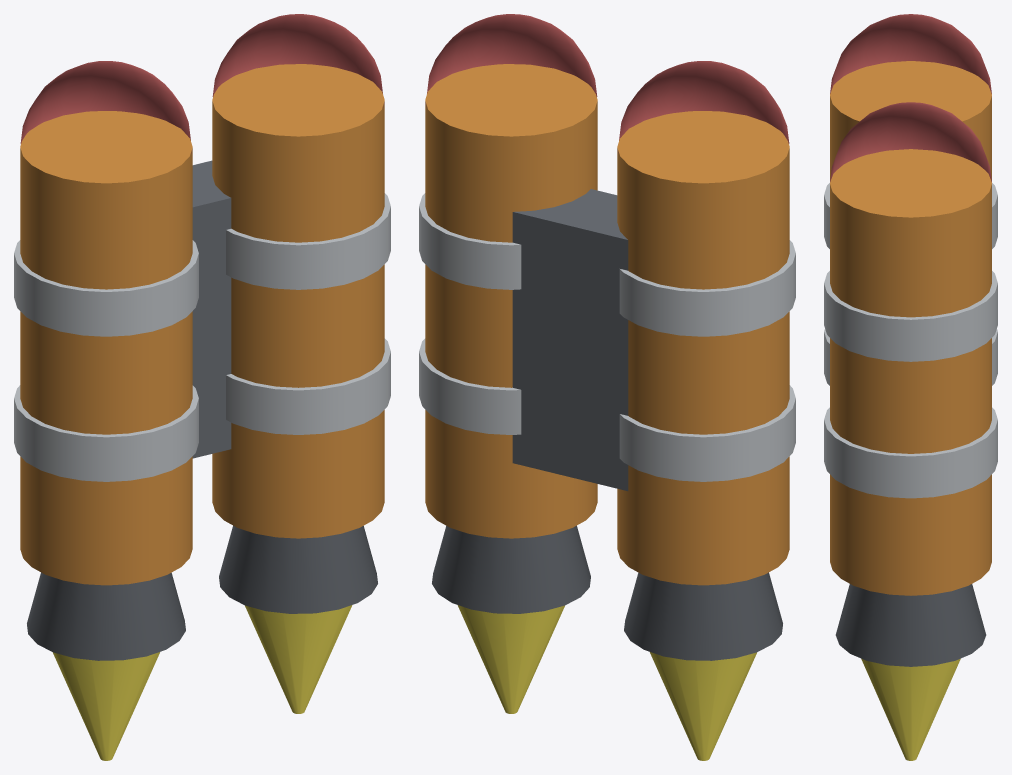
Rendered from 03_jetpack.glb.
3 views of the same model, side by side, from view 1: azimuth 30°, elevation 25°; view 2: azimuth 150°, elevation 25°; view 3: azimuth 270°, elevation 25° (orthographic). The views are drawn at different scales.
Parts seen in each view (by area): view 1: Jetpack; view 2: Jetpack; view 3: Jetpack.
Boxes of the visible parts, x1,y1,x2,y2 form: Jetpack: (14,14,390,760); Jetpack: (419,14,795,760); Jetpack: (824,14,997,760).
Size of the model in its own units: 0.66 by 1.23 by 0.3.
